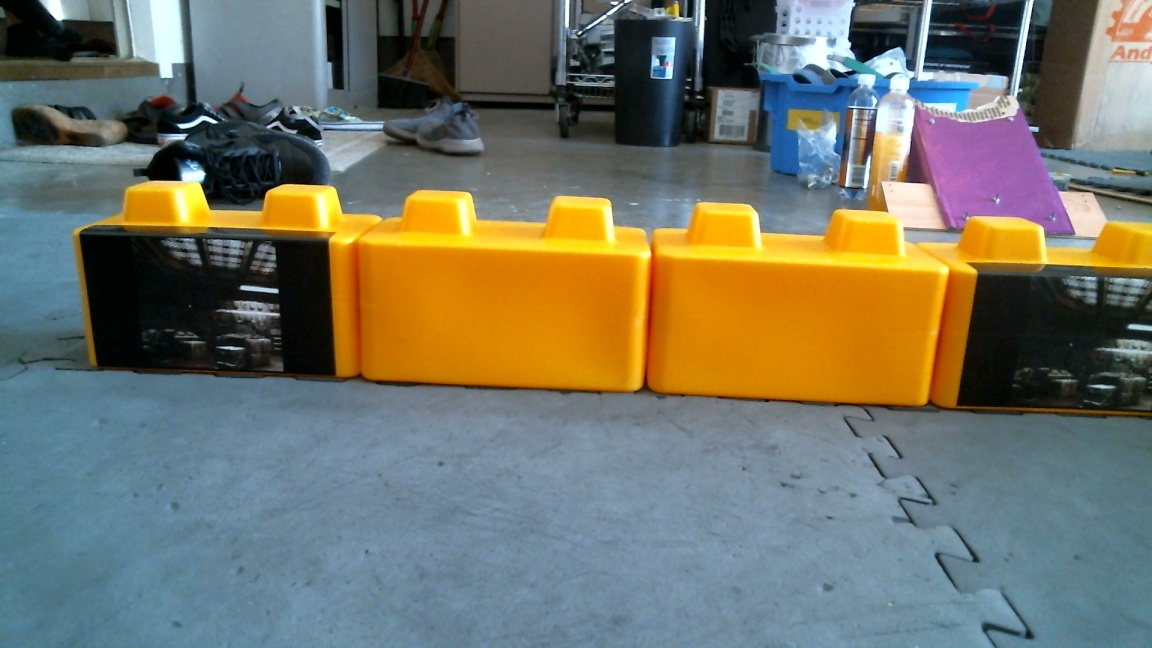left: (70, 174, 942, 405)
right: (357, 189, 1152, 414)
